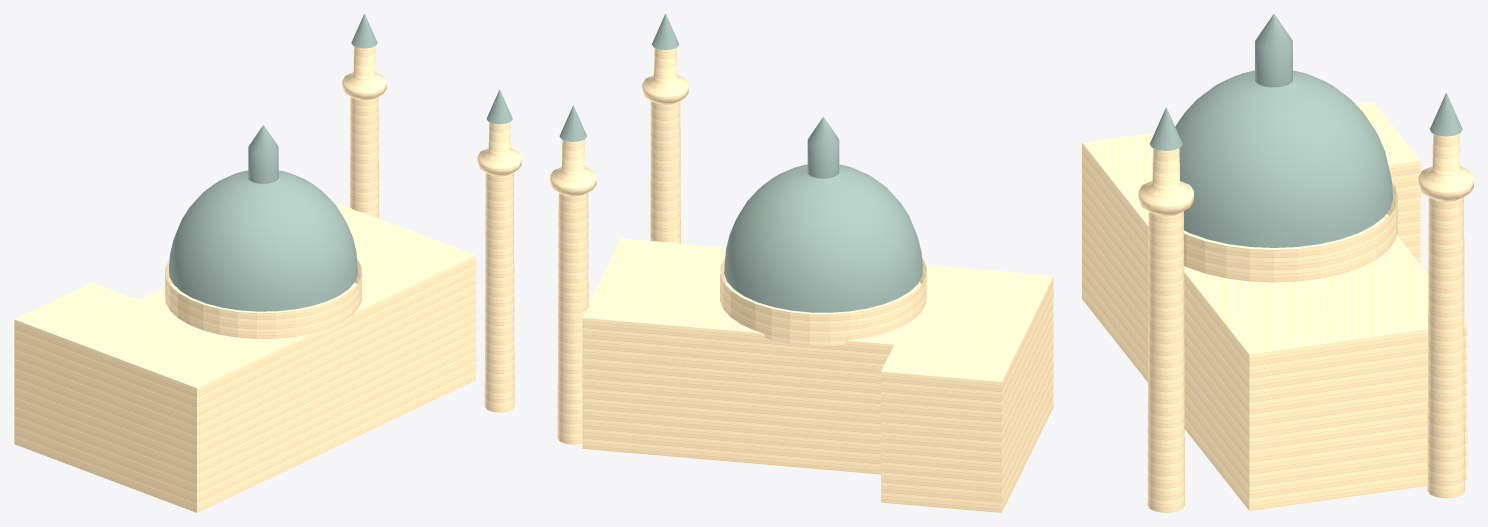
Rendered from landmark-huseyniyya-mosque.glb.
The picture shows the model from 3 angles, left to right: view 1: azimuth 30°, elevation 25°; view 2: azimuth 150°, elevation 25°; view 3: azimuth 270°, elevation 25°; orthographic projection. The views are drawn at different scales.
Visible parts, largest first — view 1: huseyniyya-mosque; view 2: huseyniyya-mosque; view 3: huseyniyya-mosque.
Boxes of the visible parts, left/top/right/bottom form: huseyniyya-mosque: left=14, top=14, right=521, bottom=512; huseyniyya-mosque: left=550, top=14, right=1053, bottom=512; huseyniyya-mosque: left=1082, top=14, right=1473, bottom=512.
Bounding box in the file's own units: 55.3 × 39.62 × 35.44.
2 materials, 1 textured.
